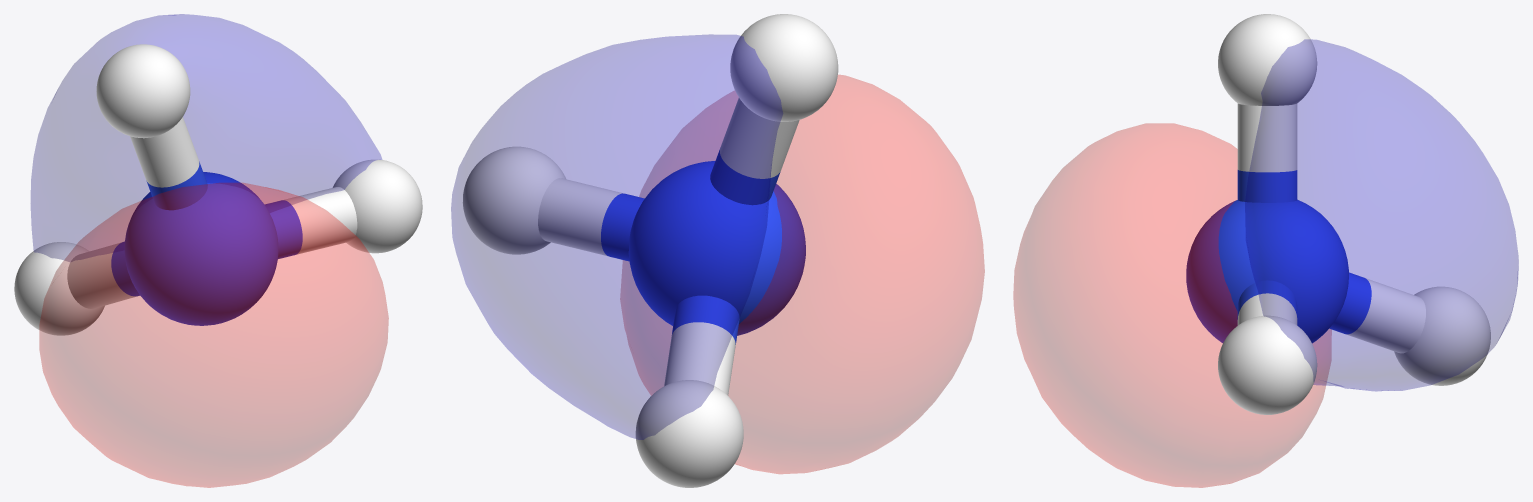
3 renders of one model, left to right at view 1: azimuth 30°, elevation 25°; view 2: azimuth 150°, elevation 25°; view 3: azimuth 270°, elevation 25°, orthographic. The views are drawn at different scales.
Visible parts, largest first — view 1: surface, surface.001, atoms.001, atoms, bonds.001, bonds; view 2: surface.001, surface, atoms.001, atoms, bonds.001, bonds; view 3: surface.001, surface, atoms.001, atoms, bonds.001, bonds.
Boxes of the visible parts, x1=… form: surface: x1=39, y1=183, x2=388, y2=487; surface.001: x1=31, y1=14, x2=381, y2=261; atoms.001: x1=14, y1=44, x2=422, y2=335; atoms: x1=124, y1=172, x2=278, y2=325; bonds.001: x1=67, y1=117, x2=357, y2=308; bonds: x1=111, y1=161, x2=302, y2=296; surface.001: x1=451, y1=34, x2=782, y2=439; surface: x1=620, y1=75, x2=984, y2=473; atoms.001: x1=462, y1=14, x2=838, y2=487; atoms: x1=628, y1=161, x2=805, y2=335; bonds.001: x1=538, y1=98, x2=799, y2=395; bonds: x1=601, y1=149, x2=780, y2=344; surface.001: x1=1245, y1=39, x2=1518, y2=391; surface: x1=1013, y1=123, x2=1331, y2=487; atoms.001: x1=1218, y1=14, x2=1490, y2=414; atoms: x1=1186, y1=199, x2=1348, y2=343; bonds.001: x1=1237, y1=103, x2=1425, y2=353; bonds: x1=1237, y1=170, x2=1371, y2=334.
Size of the model in its own units: 2.42 by 2.41 by 2.54.
